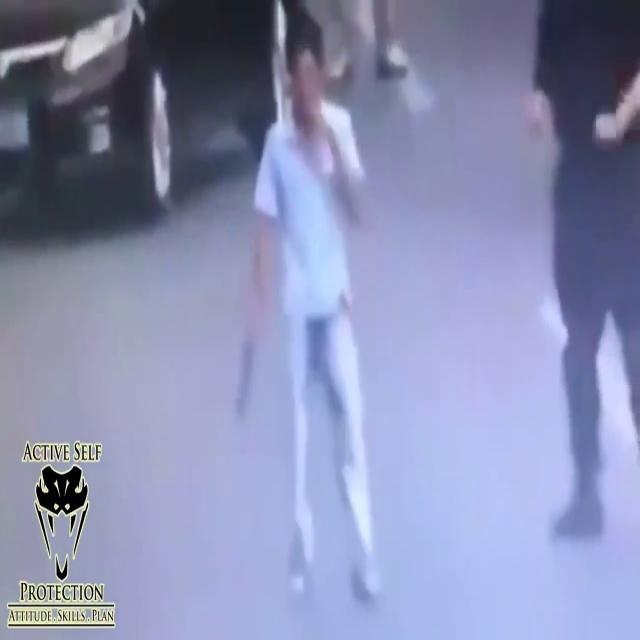weapon: (228, 319, 264, 424)
